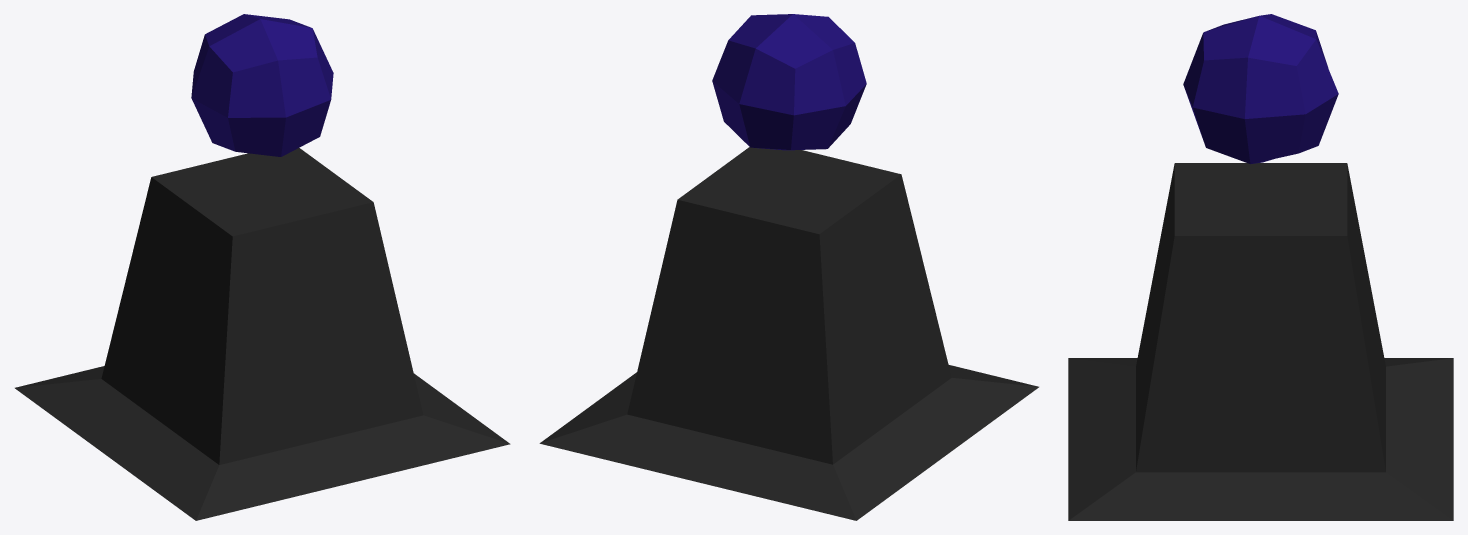
File: PowerBuld.fbx
3 views of the same model, side by side, from view 1: azimuth 30°, elevation 25°; view 2: azimuth 150°, elevation 25°; view 3: azimuth 270°, elevation 25° (orthographic). The views are drawn at different scales.
Visible parts, largest first — view 1: Plane, Cube; view 2: Plane, Cube; view 3: Plane, Cube.
Part boxes in pixels (<box>): Plane: <box>15,148,510,520</box>; Cube: <box>191,14,333,156</box>; Plane: <box>539,147,1038,520</box>; Cube: <box>712,14,866,150</box>; Plane: <box>1068,163,1453,520</box>; Cube: <box>1183,14,1338,164</box>.
Size of the model in its own units: 200 by 242 by 200.
